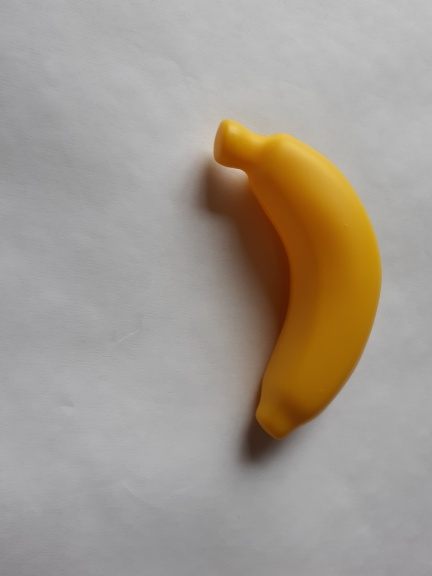banana: (192, 110, 399, 449)
